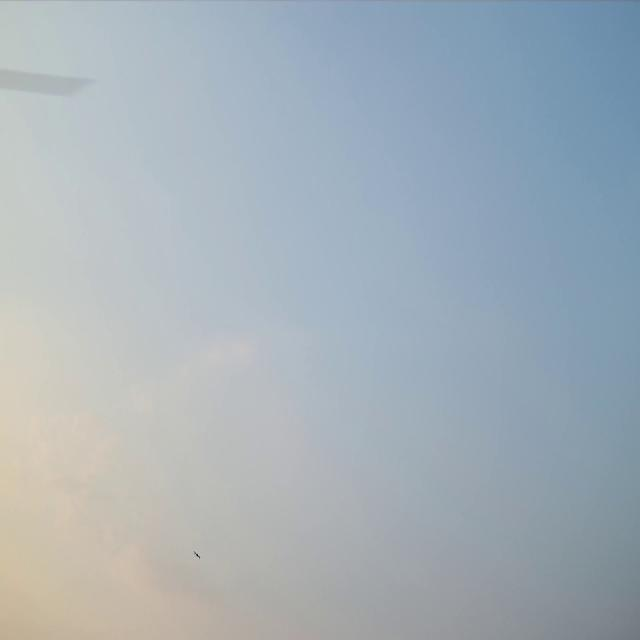UAV: (194, 552, 200, 557)
